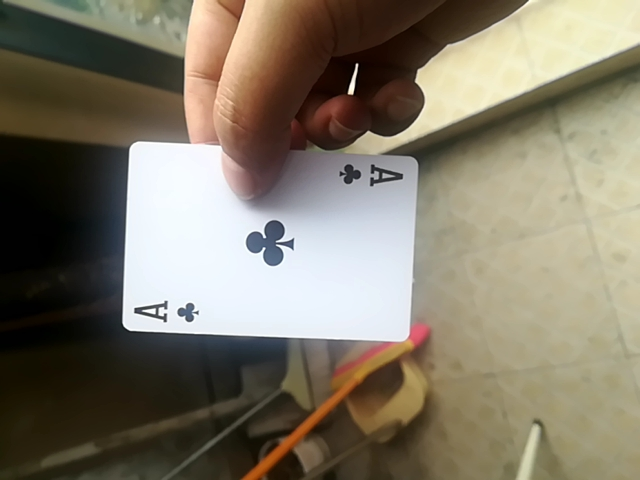mh a: (113, 136, 421, 343)
